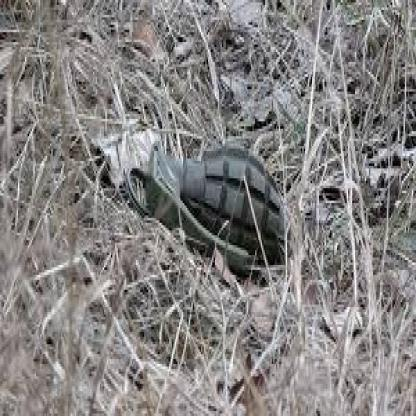Grenade: (124, 142, 286, 273)
